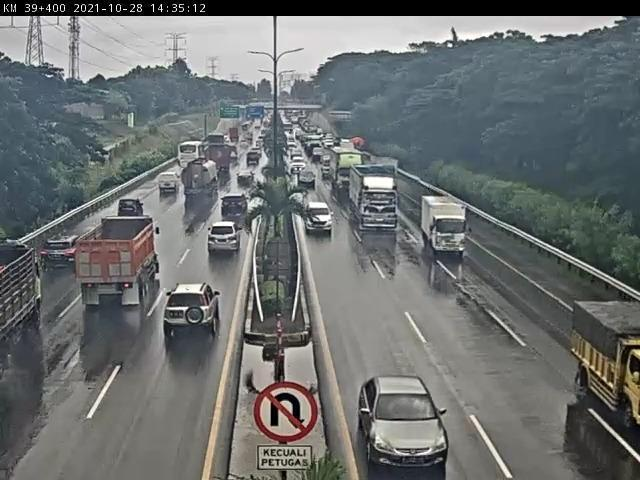bus: (180, 138, 202, 170)
car: (370, 382, 446, 456), (173, 283, 218, 336), (49, 236, 81, 264), (210, 224, 242, 251), (309, 200, 333, 235), (224, 194, 251, 216), (116, 197, 150, 214), (159, 172, 181, 196), (298, 169, 321, 191), (209, 130, 226, 148), (288, 161, 307, 177), (322, 156, 333, 180), (240, 169, 252, 187), (247, 152, 260, 167), (292, 150, 302, 161), (312, 149, 323, 157)
truck: (572, 301, 640, 412), (94, 218, 154, 301), (1, 245, 47, 345), (347, 164, 404, 236), (425, 199, 473, 264), (333, 149, 366, 191), (191, 156, 219, 199), (211, 146, 235, 176)
